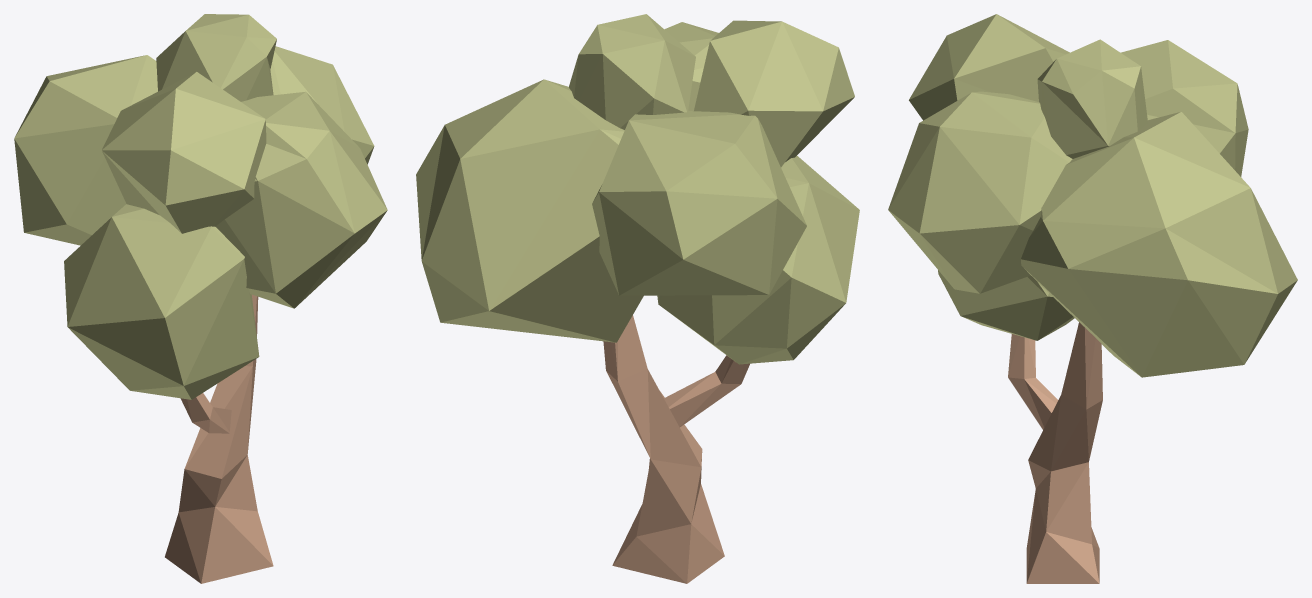
The model's file is ArvorePastel.fbx.
3 views of the same model, side by side, from view 1: azimuth 30°, elevation 25°; view 2: azimuth 150°, elevation 25°; view 3: azimuth 270°, elevation 25° (orthographic). The views are drawn at different scales.
Visible parts, largest first — view 1: polySurface24; view 2: polySurface24; view 3: polySurface24.
Part boxes in pixels (x1,y1,x2,y2): polySurface24: (14, 14, 387, 583); polySurface24: (416, 14, 859, 583); polySurface24: (888, 14, 1297, 583).
Bounding box in the file's own units: 7.52 × 10.89 × 7.78.
